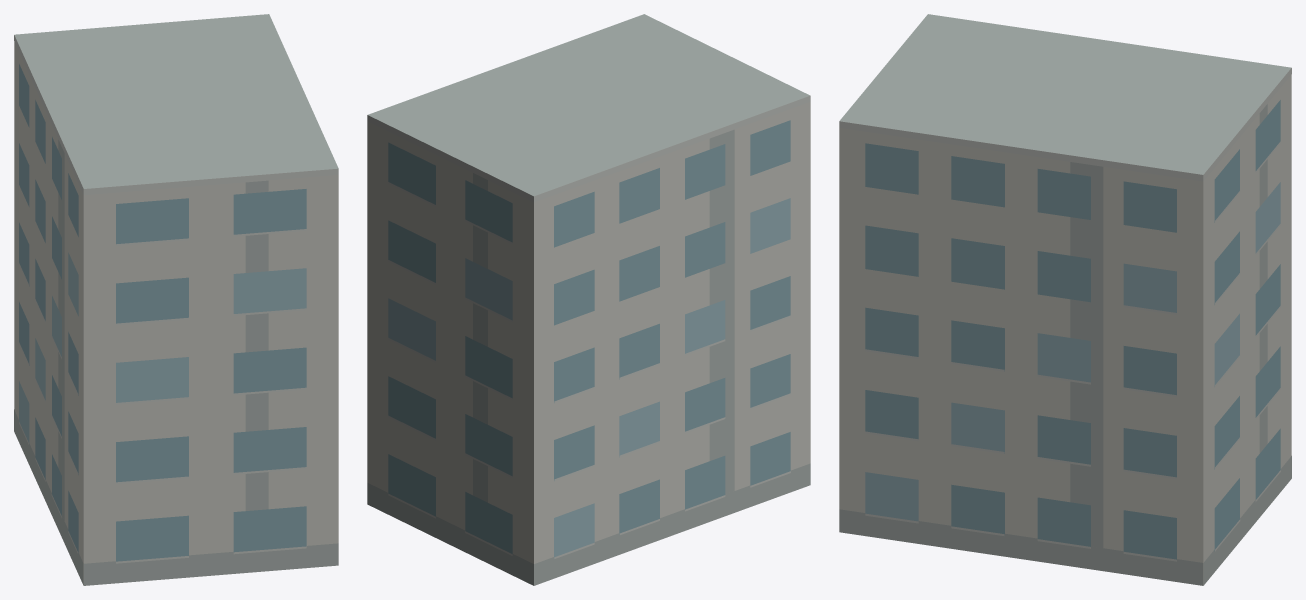
File: residential-31e89ee6-8960-4678-8aee-4e47c314a84d.glb
The picture shows the model from 3 angles, left to right: view 1: azimuth 30°, elevation 25°; view 2: azimuth 150°, elevation 25°; view 3: azimuth 270°, elevation 25°; orthographic projection. The views are drawn at different scales.
Parts seen in each view (by area): view 1: residential-31e89ee6-8960-4678-8aee-4e47c314a84d.tmp; view 2: residential-31e89ee6-8960-4678-8aee-4e47c314a84d.tmp; view 3: residential-31e89ee6-8960-4678-8aee-4e47c314a84d.tmp.
Boxes of the visible parts, x1=… form: residential-31e89ee6-8960-4678-8aee-4e47c314a84d.tmp: x1=14, y1=14, x2=338, y2=585; residential-31e89ee6-8960-4678-8aee-4e47c314a84d.tmp: x1=367, y1=14, x2=810, y2=585; residential-31e89ee6-8960-4678-8aee-4e47c314a84d.tmp: x1=839, y1=14, x2=1291, y2=585.
Size of the model in its own units: 12.82 by 15.25 by 15.23.
